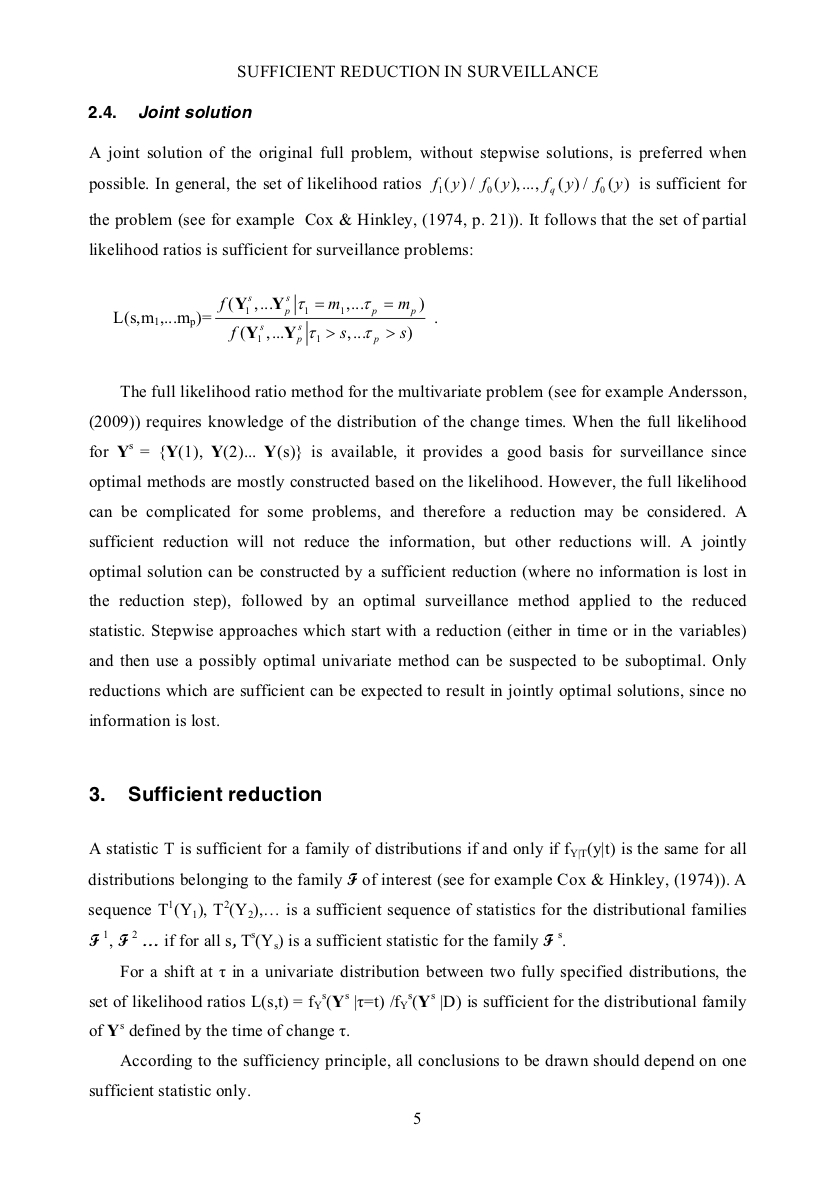formula: (113, 293, 436, 346)
